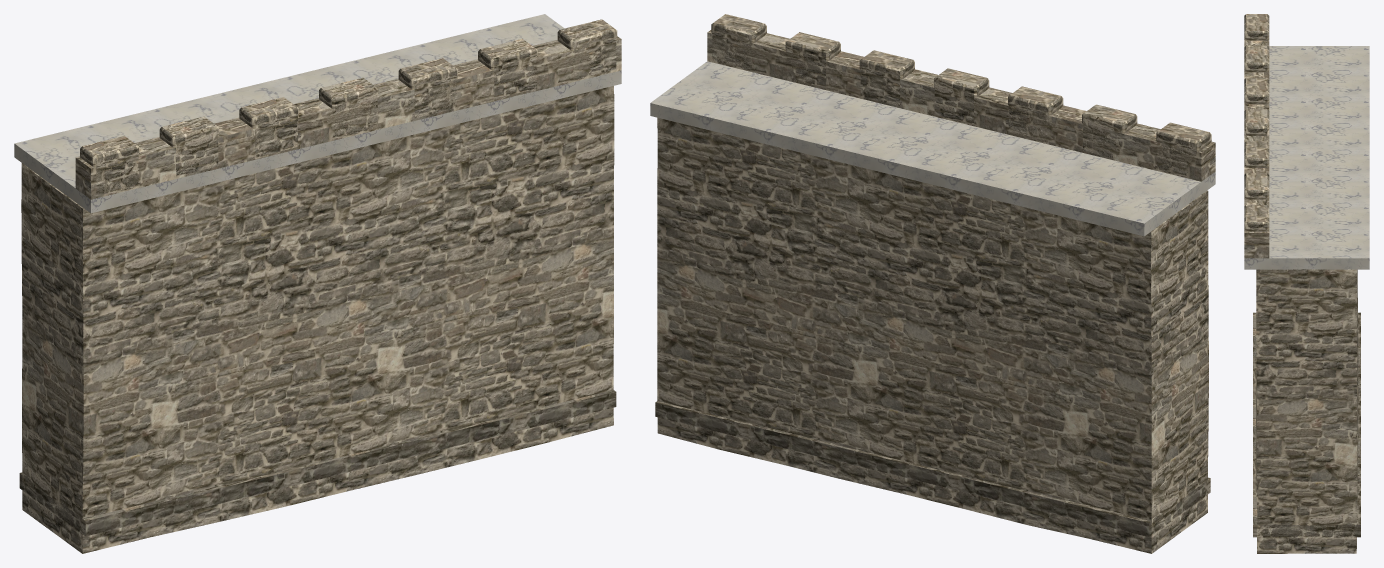
Rendered from infra_city-wall.glb.
3 views of the same model, side by side, from view 1: azimuth 30°, elevation 25°; view 2: azimuth 150°, elevation 25°; view 3: azimuth 270°, elevation 25° (orthographic). The views are drawn at different scales.
Parts seen in each view (by area): view 1: stone, step, stone_dark; view 2: stone, step, stone_dark; view 3: stone, step, stone_dark.
Boxes of the visible parts, x1,y1,x2,y2 form: stone: (21, 19, 621, 553); step: (14, 14, 621, 213); stone_dark: (19, 390, 616, 536); stone: (657, 14, 1215, 553); step: (650, 61, 1215, 236); stone_dark: (655, 401, 1210, 537); stone: (1244, 14, 1358, 553); step: (1244, 46, 1369, 269); stone_dark: (1253, 312, 1360, 537).
Size of the model in its own units: 8 by 5.82 by 2.
3 materials, 3 textured.
